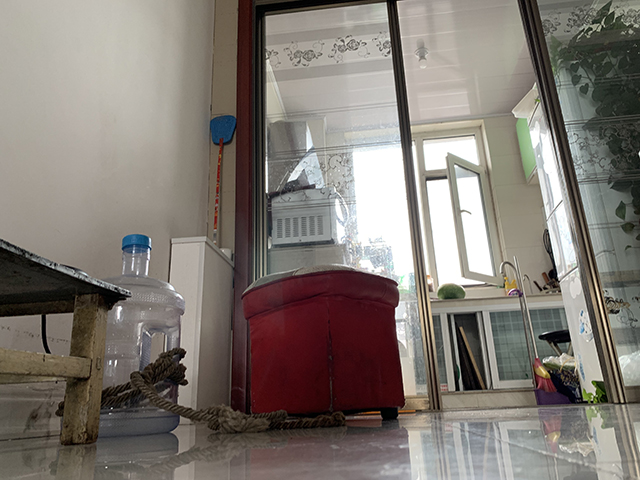cabinet: (430, 293, 575, 410)
stool: (239, 263, 406, 423)
table: (1, 237, 132, 447)
